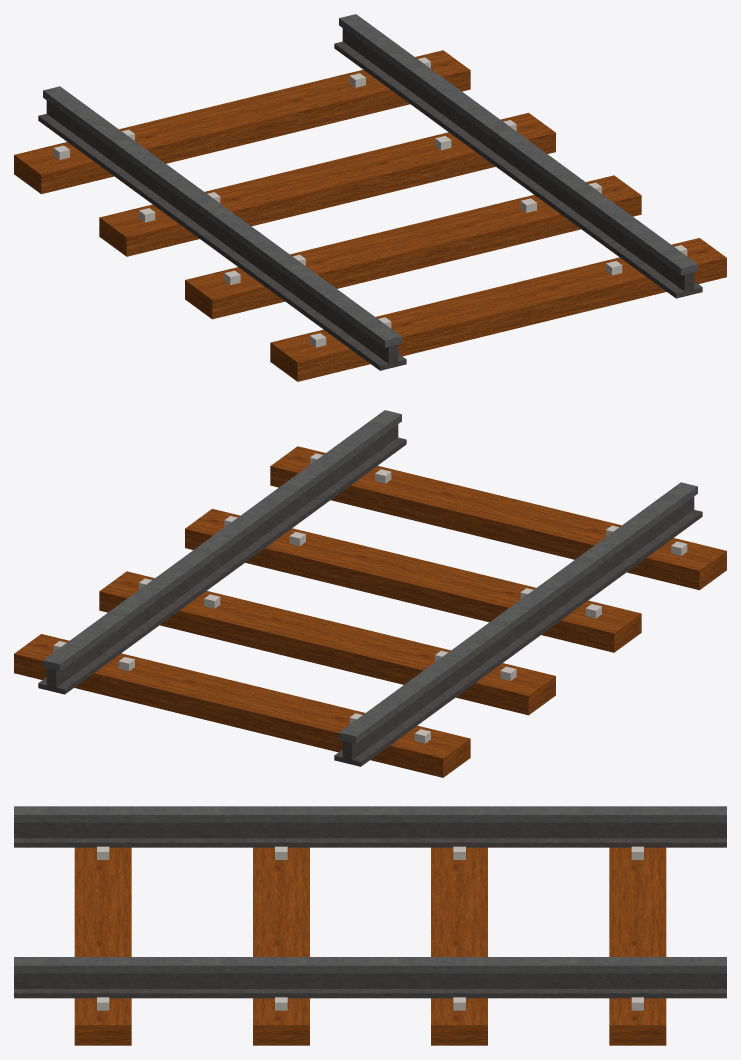
Rendered from rail_straight.gltf.
3 views of the same model, one above another, from view 1: azimuth 30°, elevation 25°; view 2: azimuth 150°, elevation 25°; view 3: azimuth 270°, elevation 25° (orthographic). The views are drawn at different scales.
Bounding box in the file's own units: 2.9 × 0.3125 × 4.
4 materials, 3 textured.
